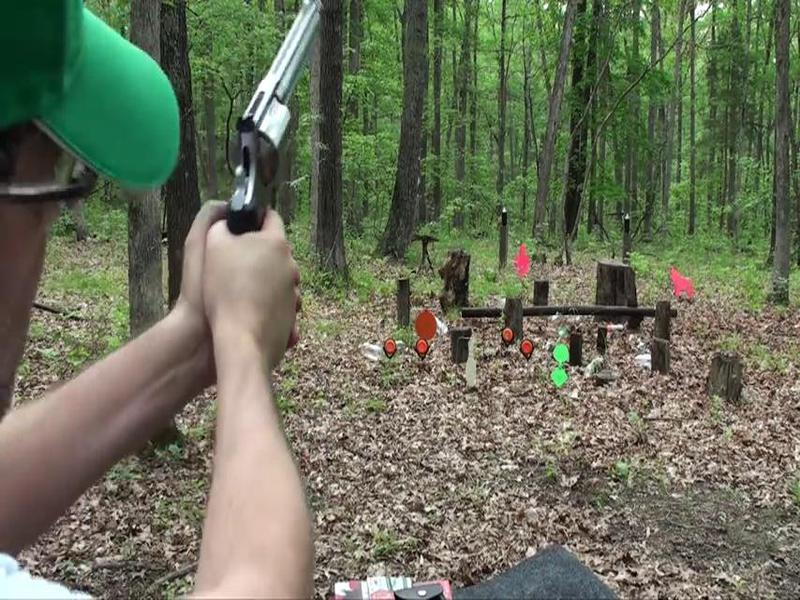Revolver: (207, 16, 387, 284)
